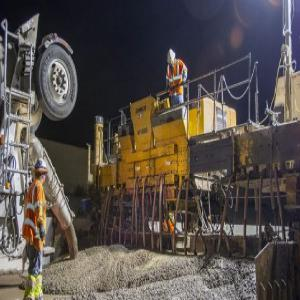white: (167, 50, 177, 67)
yellow: (34, 159, 48, 185)
